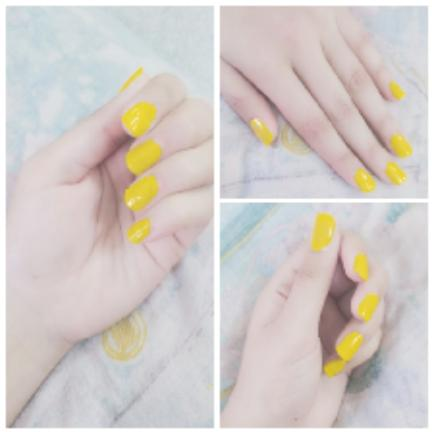Nail: (125, 140, 162, 175), (124, 176, 159, 211), (122, 102, 157, 137), (311, 213, 336, 251), (337, 332, 363, 361), (250, 118, 273, 147), (357, 294, 379, 322), (127, 219, 150, 243), (354, 169, 376, 193), (385, 162, 407, 185), (391, 134, 413, 157), (354, 254, 369, 281), (325, 360, 345, 377), (389, 82, 405, 100)
